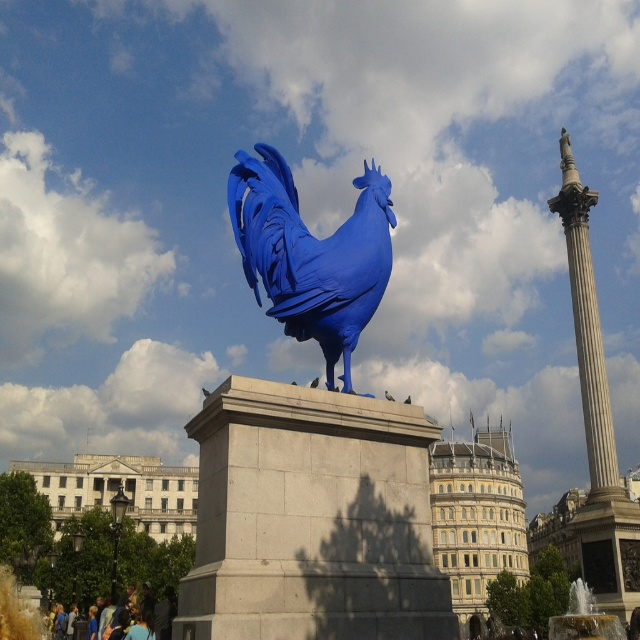Chicken: (230, 135, 404, 400)
